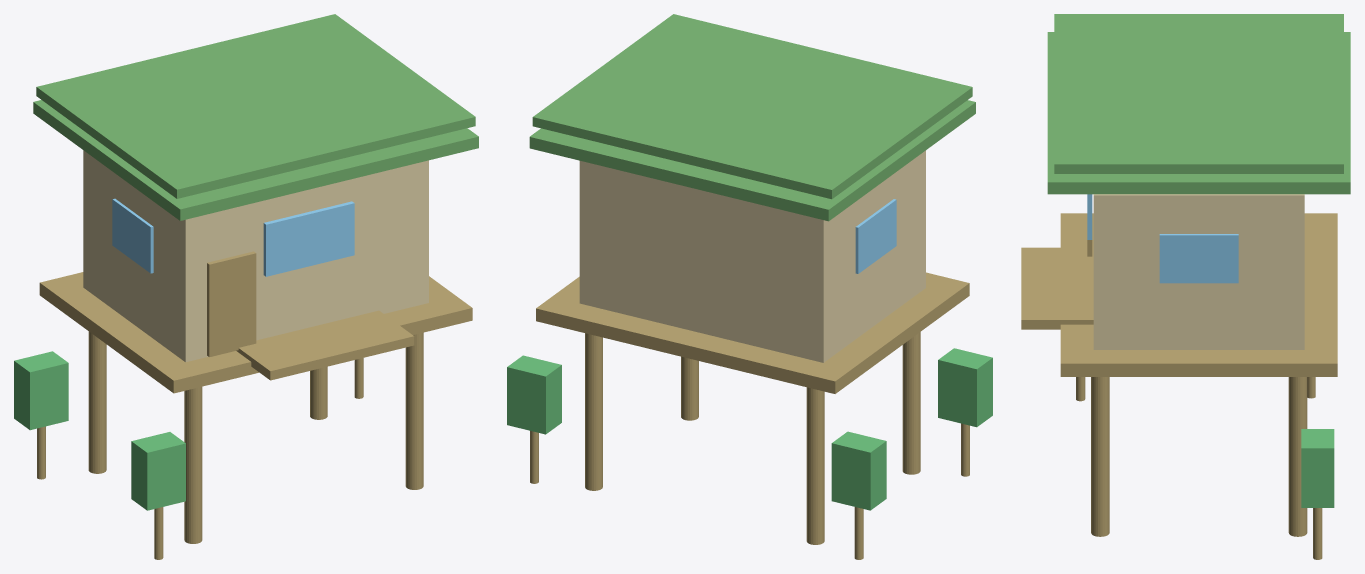
Rendered from roadside_bamboo_house.glb.
3 views of the same model, side by side, from view 1: azimuth 30°, elevation 25°; view 2: azimuth 150°, elevation 25°; view 3: azimuth 270°, elevation 25° (orthographic). The views are drawn at different scales.
Visible parts, largest first — view 1: body, roof_pitch_a, roof_pitch_b, roof_main, platform, porch, front_window, door, plant_leaf_-2.8_1.8, plant_leaf_-2.9_-1.7, stilt_2.0_1.5, stilt_-2.0_1.5 (+3 smaller); view 2: body, roof_pitch_a, roof_pitch_b, platform, roof_main, plant_leaf_-2.9_-1.7, plant_leaf_2.9_-1.8, plant_leaf_-2.8_1.8, stilt_-2.0_-1.5, stilt_2.0_-1.5, stilt_-2.0_1.5, side_window_left (+1 smaller); view 3: body, roof_pitch_a, roof_pitch_b, platform, roof_main, porch, side_window_right, stilt_2.0_1.5, stilt_2.0_-1.5, plant_leaf_2.9_-1.8, plant_trunk_2.9_-1.8.
Boxes of the visible parts, box(x1,y1,x2,y2) form: body: box(83, 150, 428, 362); roof_pitch_a: box(36, 14, 410, 151); roof_pitch_b: box(100, 61, 475, 198); roof_main: box(33, 100, 478, 220); platform: box(39, 272, 472, 393); porch: box(236, 310, 414, 380); front_window: box(263, 201, 354, 276); door: box(207, 251, 256, 357); plant_leaf_-2.8_1.8: box(131, 432, 185, 510); plant_leaf_-2.9_-1.7: box(14, 351, 68, 430); stilt_2.0_1.5: box(405, 332, 423, 489); stilt_-2.0_1.5: box(184, 386, 202, 543); body: box(579, 150, 925, 362); roof_pitch_a: box(532, 61, 908, 199); roof_pitch_b: box(597, 14, 972, 142); platform: box(536, 272, 969, 393); roof_main: box(529, 100, 975, 221); plant_leaf_-2.9_-1.7: box(831, 431, 886, 510); plant_leaf_2.9_-1.8: box(507, 355, 561, 434); plant_leaf_-2.8_1.8: box(938, 348, 992, 427); stilt_-2.0_-1.5: box(806, 387, 824, 544); stilt_2.0_-1.5: box(585, 333, 602, 490); stilt_-2.0_1.5: box(902, 332, 920, 474); side_window_left: box(855, 199, 896, 273); body: box(1093, 194, 1304, 349); roof_pitch_a: box(1186, 14, 1343, 173); roof_pitch_b: box(1054, 14, 1212, 173); platform: box(1060, 213, 1337, 376); roof_main: box(1047, 32, 1350, 194); porch: box(1021, 247, 1093, 329); side_window_right: box(1159, 234, 1238, 283); stilt_2.0_1.5: box(1091, 377, 1109, 536); stilt_2.0_-1.5: box(1288, 377, 1307, 536); plant_leaf_2.9_-1.8: box(1301, 429, 1334, 507); plant_trunk_2.9_-1.8: box(1313, 508, 1322, 559).
Size of the model in its own units: 6.5 by 6.5 by 5.
